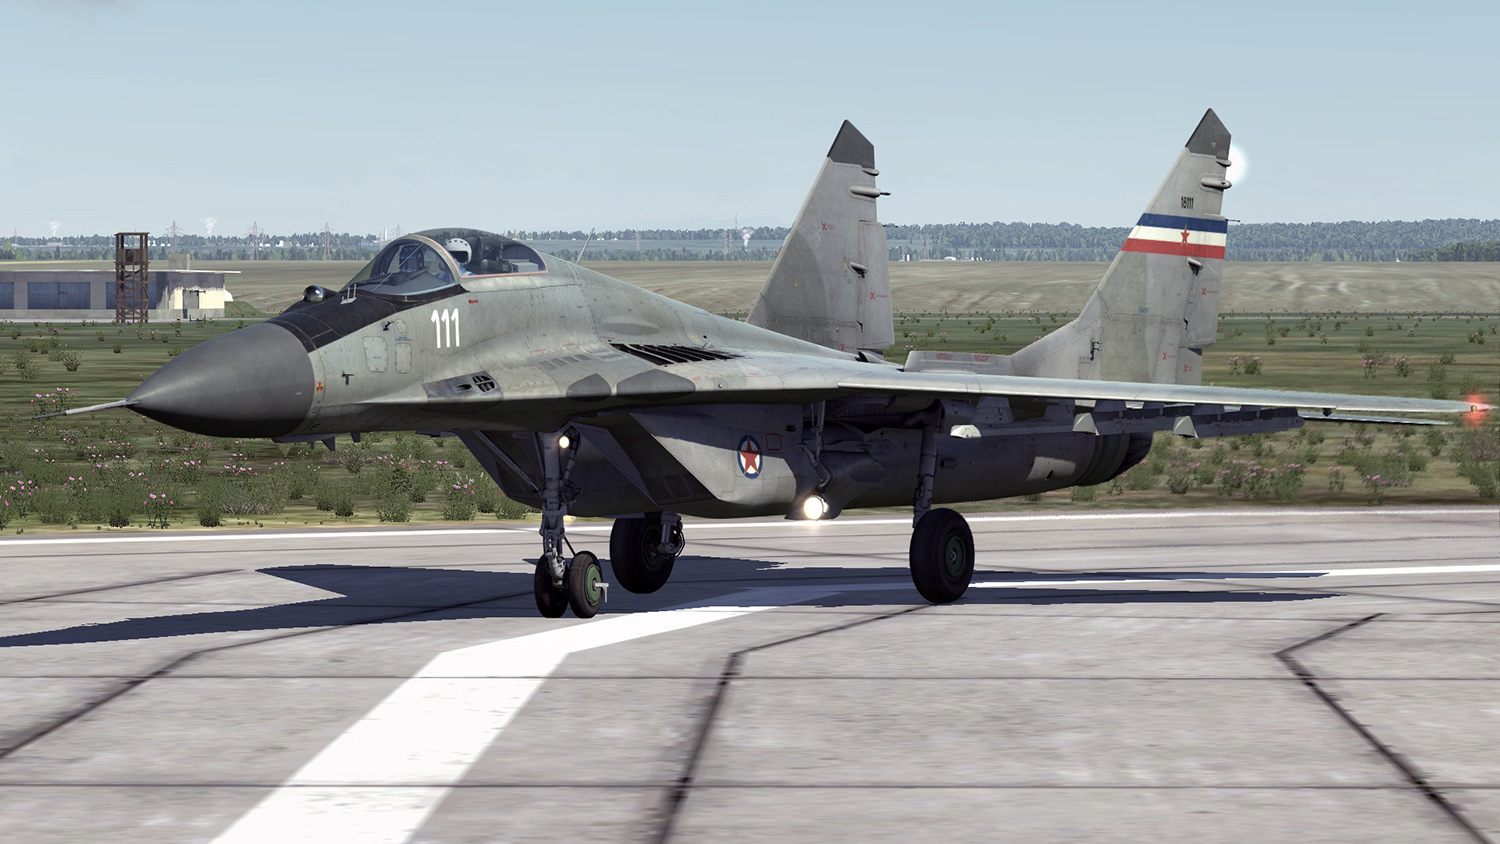Mig-29: (120, 71, 1380, 616)
